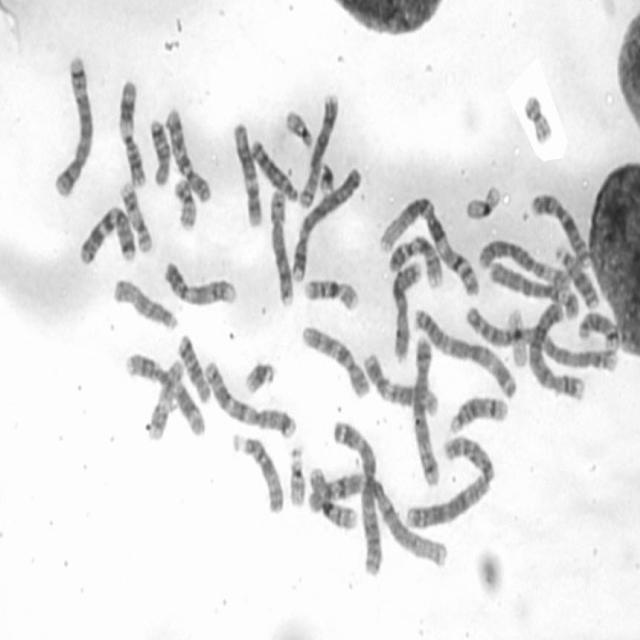A1: (309, 473, 446, 566), (379, 194, 481, 298)
A2: (464, 303, 618, 370), (405, 437, 495, 528)
A3: (414, 307, 518, 400), (333, 419, 383, 577)
B4: (292, 166, 364, 282), (528, 301, 588, 402)
B5: (55, 52, 93, 198), (411, 334, 443, 484)
C10: (300, 324, 370, 396), (162, 105, 212, 203)
C11: (123, 353, 207, 438), (116, 78, 147, 185)
C12: (363, 352, 438, 416), (233, 122, 262, 228)
C6: (488, 259, 578, 318), (478, 238, 571, 290)
C7: (203, 358, 296, 439), (77, 206, 136, 268)
C8: (298, 93, 339, 208), (268, 185, 296, 307)
C9: (164, 262, 238, 308), (388, 234, 443, 286)
D13: (250, 139, 298, 201), (554, 247, 600, 310)
D14: (451, 394, 508, 434), (578, 310, 619, 352)
D15: (232, 433, 284, 514), (112, 278, 180, 330)
E16: (309, 466, 359, 530), (299, 281, 363, 313)
E17: (148, 358, 185, 444), (118, 182, 153, 255)
E18: (177, 334, 210, 404), (148, 112, 172, 186)
F19: (463, 182, 504, 222), (506, 305, 528, 368)
F20: (515, 92, 555, 148), (172, 179, 198, 231)
G21: (245, 362, 280, 394), (318, 160, 334, 198)
G22: (288, 444, 308, 511), (284, 109, 311, 146)
X: (531, 195, 590, 265), (392, 258, 424, 364)
